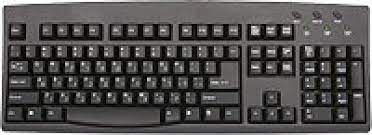keyboard: (1, 1, 372, 134)
